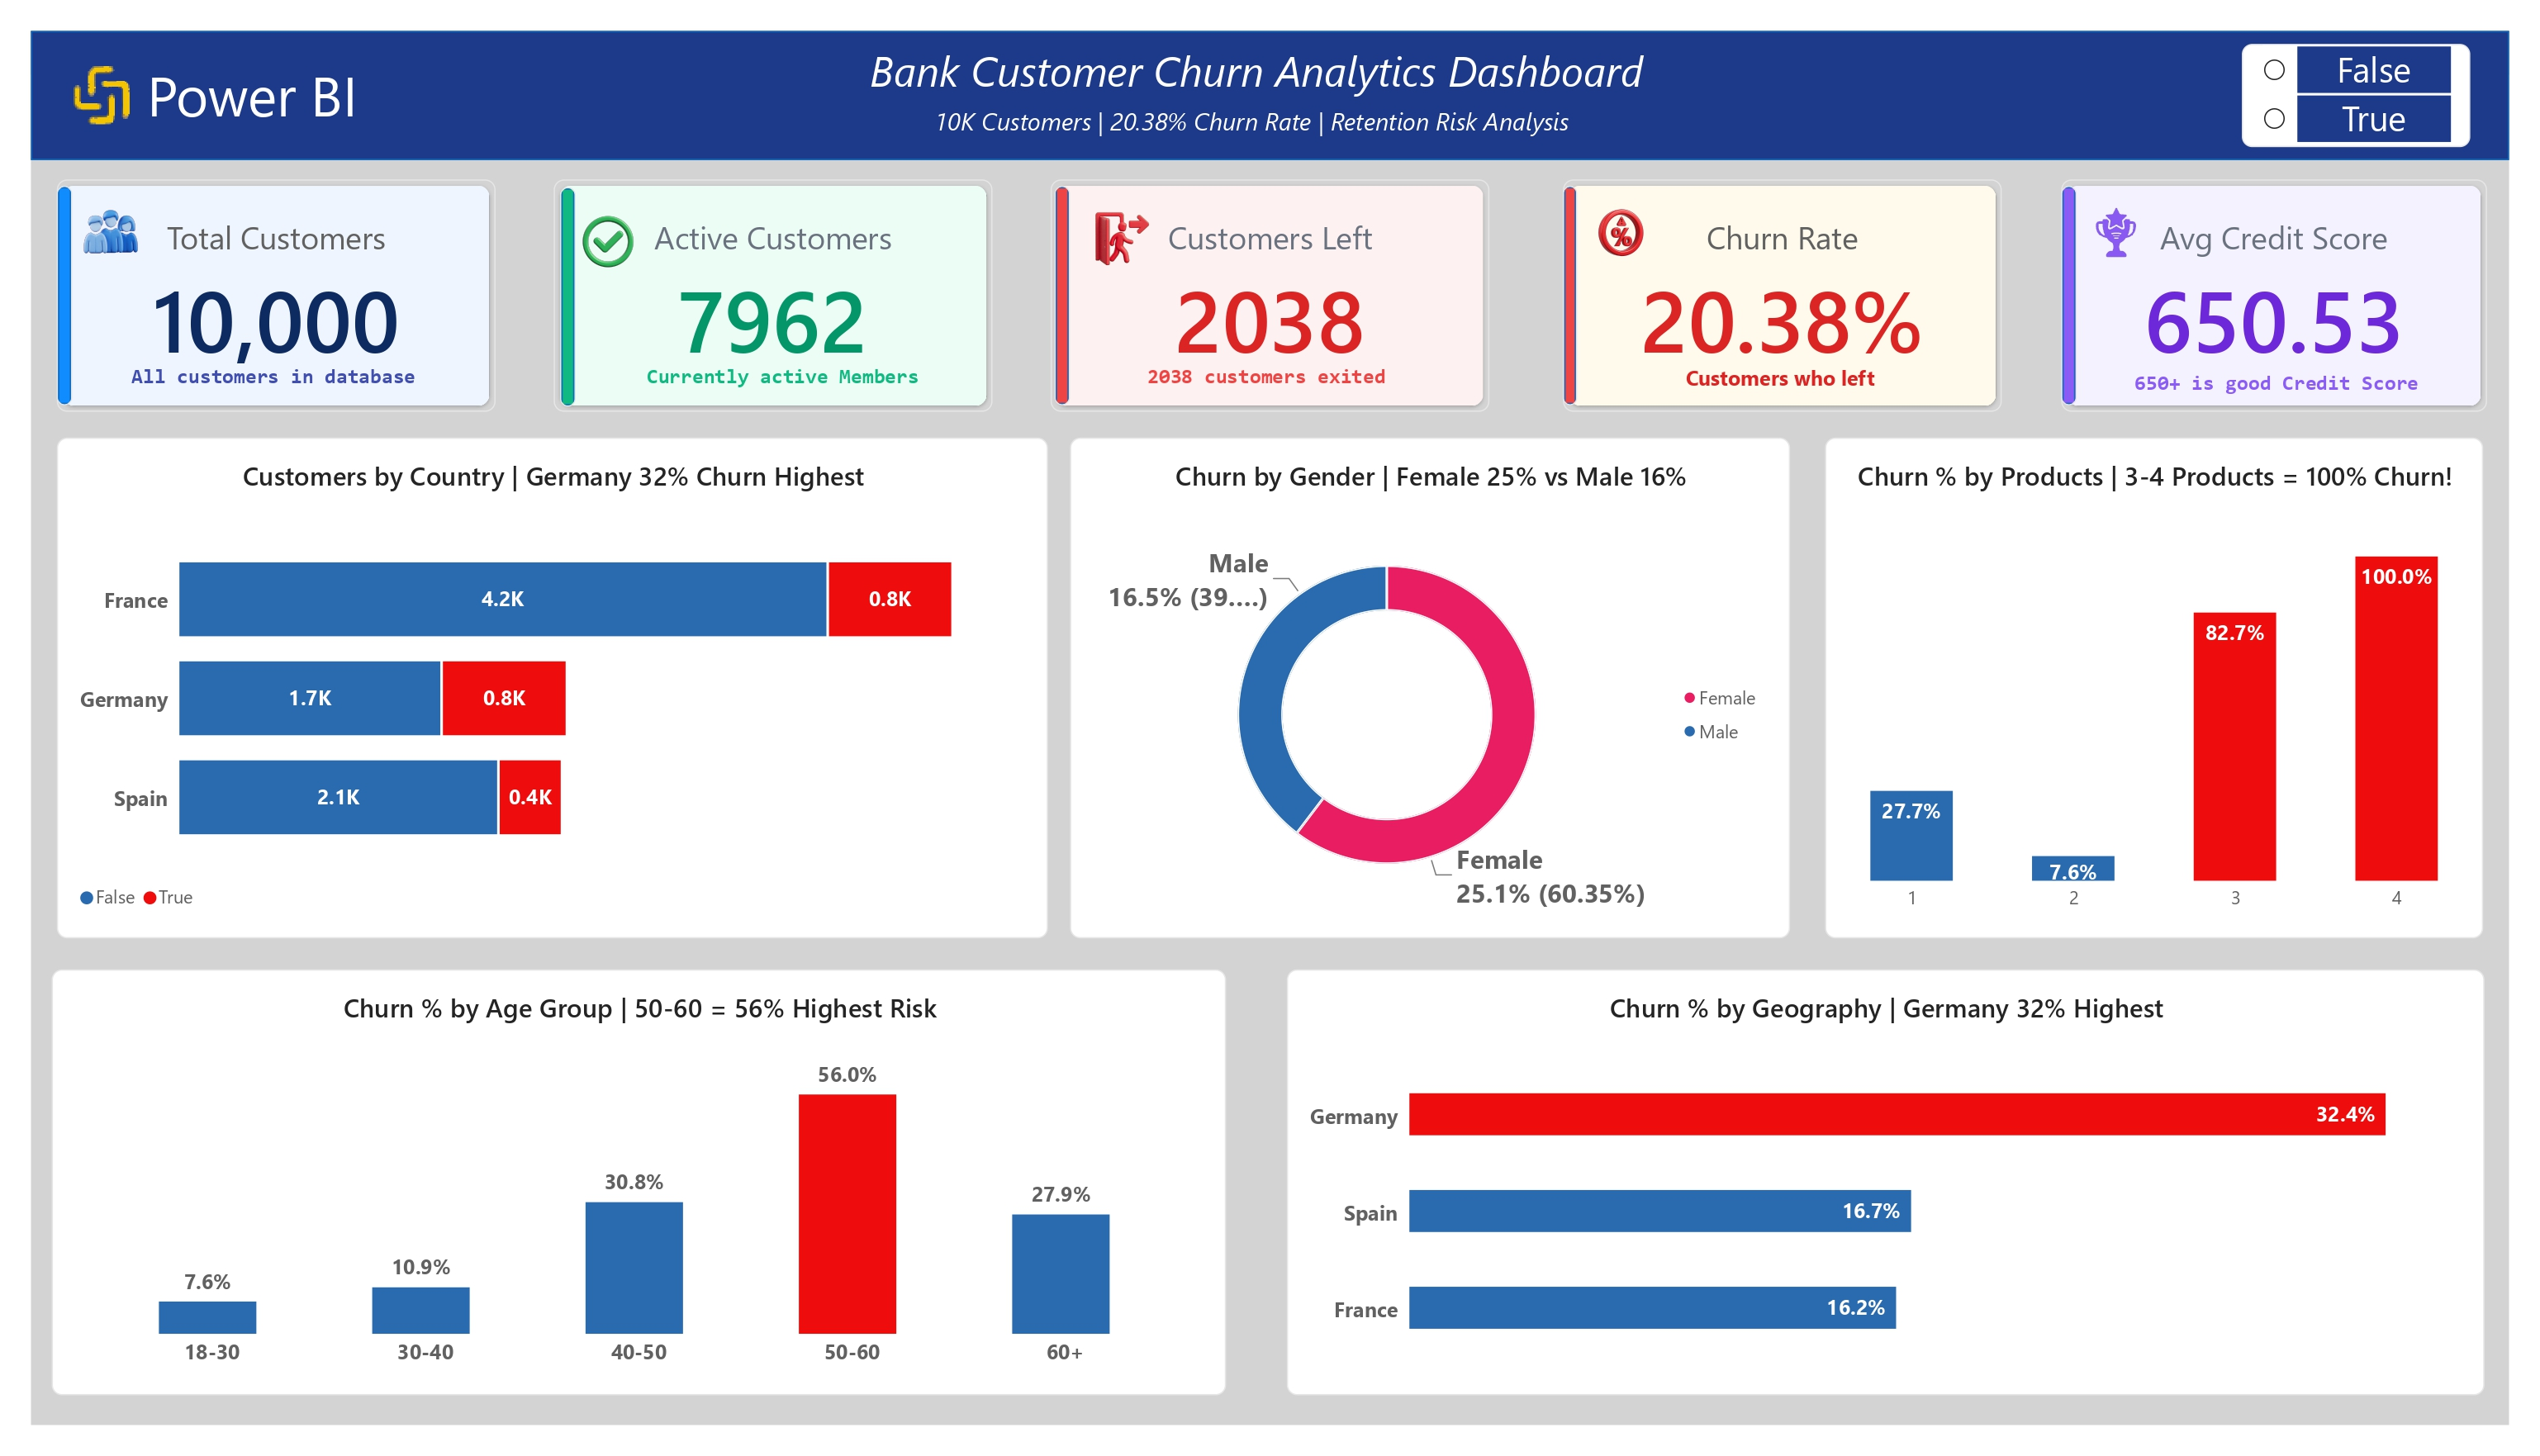

The dashboard page shown, as its layout file describes it:
{"tool":"powerbi","page":{"name":"Page 1","canvas":[1920,1080],"ordinal":0},"visuals":[{"type":"cardVisual","title":"Overall Churn Rate","fields":{"Data":["Bank_Customer_Churn.Total Customers"]},"box":[20,115,340,180],"z":0,"group":"g2"},{"type":"cardVisual","title":"Overall Churn Rate","fields":{"Data":["Bank_Customer_Churn.Active Customers"]},"box":[787.8,117.8,340,180],"z":0,"group":"g4"},{"type":"cardVisual","title":"Overall Churn Rate","fields":{"Data":["Bank_Customer_Churn.Customers Left"]},"box":[1187.2,117.8,340,180],"z":0,"group":"g6"},{"type":"group","id":"g1","title":"Group 4","box":[1573.3,120,331.1,200],"z":0},{"type":"cardVisual","title":"Overall Churn Rate","fields":{"Data":["Bank_Customer_Churn.Avg Credit Score"]},"box":[1573.3,120,330,180],"z":0,"group":"g7"},{"type":"group","id":"g2","title":"Group 1","box":[20,115,340,180],"z":1000},{"type":"cardVisual","title":"Overall Churn Rate","fields":{"Data":["Bank_Customer_Churn.Churn %"]},"box":[403.9,115,340,180],"z":1000,"group":"g3"},{"type":"shape","box":[787.8,119.8,12,175],"z":1000,"group":"g4"},{"type":"shape","box":[1187.2,120,12,168],"z":1000,"group":"g6"},{"type":"shape","box":[1573.3,125.4,12,168.3],"z":1000,"group":"g7"},{"type":"group","id":"g3","title":"Group 2","box":[403.9,115,340,180],"z":2000},{"type":"shape","box":[20,117,12,175],"z":2000,"group":"g2"},{"type":"image","box":[1193.8,120,80.6,94.4],"z":2000,"group":"g6"},{"type":"image","box":[1585.3,126.7,60,57.7],"z":2000,"group":"g7"},{"type":"image","box":[794.8,131.8,60,60],"z":2000,"group":"g4"},{"type":"shape","box":[403.9,117,10.9,175],"z":3000,"group":"g3"},{"type":"group","id":"g4","title":"Group 3","box":[787.8,117.8,355.6,180],"z":3000},{"type":"textbox","box":[1615.3,260.4,290,59.6],"z":3000,"group":"g7"},{"type":"textbox","box":[854.8,261.8,290,30],"z":3000,"group":"g4"},{"type":"textbox","box":[1244.1,268.1,275.1,33.3],"z":3000,"group":"g6"},{"type":"group","id":"g5","title":"Group 5","box":[1187.2,117.8,340,182.2],"z":4000},{"type":"image","box":[32,125,60,60],"z":4000,"group":"g2"},{"type":"shape","box":[0,0,1920,100],"z":5000},{"type":"image","box":[419.4,123,59.1,65],"z":5000,"group":"g3"},{"type":"textbox","box":[90,20,170,70],"z":6000},{"type":"textbox","box":[62,260,290,30],"z":6000,"group":"g2"},{"type":"textbox","box":[650,8,657.5,45],"z":7000},{"type":"textbox","box":[473.9,259,263.8,36],"z":7000,"group":"g3"},{"type":"textbox","box":[700,57,607.5,47.5],"z":8000},{"type":"image","box":[15,10,80,80],"z":9000},{"type":"group","id":"g6","title":"Group 7","box":[1187.2,117.8,340,183.7],"z":9001,"group":"g5"},{"type":"barChart","title":"Customers by Country | Germany 32% Churn Highest","fields":{"Category":["Bank_Customer_Churn.Geography"],"Y":["CountNonNull(Bank_Customer_Churn.CustomerId)"],"Series":["Bank_Customer_Churn.Exited"]},"box":[20,315,767.5,387.5],"z":9001},{"type":"donutChart","title":"Churn by Gender | Female 25% vs Male 16%","fields":{"Category":["Bank_Customer_Churn.Gender"],"Y":["Avg(Bank_Customer_Churn.Exited Number)"]},"box":[805,315,557.5,387.5],"z":9002},{"type":"listSlicer","fields":{"Values":["Bank_Customer_Churn.Exited"]},"box":[1712.5,10,177.5,80],"z":9003},{"type":"clusteredColumnChart","title":"Churn % by Age Group | 50-60 = 56% Highest Risk","fields":{"Y":["Avg(Bank_Customer_Churn.Exited Number)"],"Category":["Bank_Customer_Churn.Age Group Label"]},"box":[15.6,726.7,910,330],"z":9004},{"type":"columnChart","title":"Churn % by Products | 3-4 Products = 100% Churn!","fields":{"Category":["Bank_Customer_Churn.NumOfProducts"],"Y":["Avg(Bank_Customer_Churn.Exited Number)"]},"box":[1390,315,510,387.5],"z":9005},{"type":"clusteredBarChart","title":"Churn % by Geography | Germany 32% Highest","fields":{"Category":["Bank_Customer_Churn.Geography"],"Y":["Avg(Bank_Customer_Churn.Exited Number)"]},"box":[973.3,726.7,927.5,330],"z":9006},{"type":"group","id":"g7","title":"Group 6","box":[1573.3,120,332,200],"z":10005,"group":"g1"}]}

Visuals, with their boxes on the page's 1920x1080 design canvas (x1, y1, x2, y2). These are canvas units, not pixel positions in the 2540x1456 screenshot, which may show the page scaled, cropped or inside an application window:
"Overall Churn Rate" cardVisual: x1=20 y1=115 x2=360 y2=295
"Overall Churn Rate" cardVisual: x1=788 y1=118 x2=1128 y2=298
"Overall Churn Rate" cardVisual: x1=1187 y1=118 x2=1527 y2=298
"Group 4" group: x1=1573 y1=120 x2=1904 y2=320
"Overall Churn Rate" cardVisual: x1=1573 y1=120 x2=1903 y2=300
"Group 1" group: x1=20 y1=115 x2=360 y2=295
"Overall Churn Rate" cardVisual: x1=404 y1=115 x2=744 y2=295
shape: x1=788 y1=120 x2=800 y2=295
shape: x1=1187 y1=120 x2=1199 y2=288
shape: x1=1573 y1=125 x2=1585 y2=294
"Group 2" group: x1=404 y1=115 x2=744 y2=295
shape: x1=20 y1=117 x2=32 y2=292
image: x1=1194 y1=120 x2=1274 y2=214
image: x1=1585 y1=127 x2=1645 y2=184
image: x1=795 y1=132 x2=855 y2=192
shape: x1=404 y1=117 x2=415 y2=292
"Group 3" group: x1=788 y1=118 x2=1143 y2=298
textbox: x1=1615 y1=260 x2=1905 y2=320
textbox: x1=855 y1=262 x2=1145 y2=292
textbox: x1=1244 y1=268 x2=1519 y2=301
"Group 5" group: x1=1187 y1=118 x2=1527 y2=300
image: x1=32 y1=125 x2=92 y2=185
shape: x1=0 y1=0 x2=1920 y2=100
image: x1=419 y1=123 x2=478 y2=188
textbox: x1=90 y1=20 x2=260 y2=90
textbox: x1=62 y1=260 x2=352 y2=290
textbox: x1=650 y1=8 x2=1308 y2=53
textbox: x1=474 y1=259 x2=738 y2=295
textbox: x1=700 y1=57 x2=1308 y2=104
image: x1=15 y1=10 x2=95 y2=90
"Group 7" group: x1=1187 y1=118 x2=1527 y2=302
"Customers by Country | Germany 32% Churn Highest" barChart: x1=20 y1=315 x2=788 y2=702
"Churn by Gender | Female 25% vs Male 16%" donutChart: x1=805 y1=315 x2=1362 y2=702
listSlicer - Bank_Customer_Churn.Exited: x1=1712 y1=10 x2=1890 y2=90
"Churn % by Age Group | 50-60 = 56% Highest Risk" clusteredColumnChart: x1=16 y1=727 x2=926 y2=1057
"Churn % by Products | 3-4 Products = 100% Churn!" columnChart: x1=1390 y1=315 x2=1900 y2=702
"Churn % by Geography | Germany 32% Highest" clusteredBarChart: x1=973 y1=727 x2=1901 y2=1057
"Group 6" group: x1=1573 y1=120 x2=1905 y2=320
